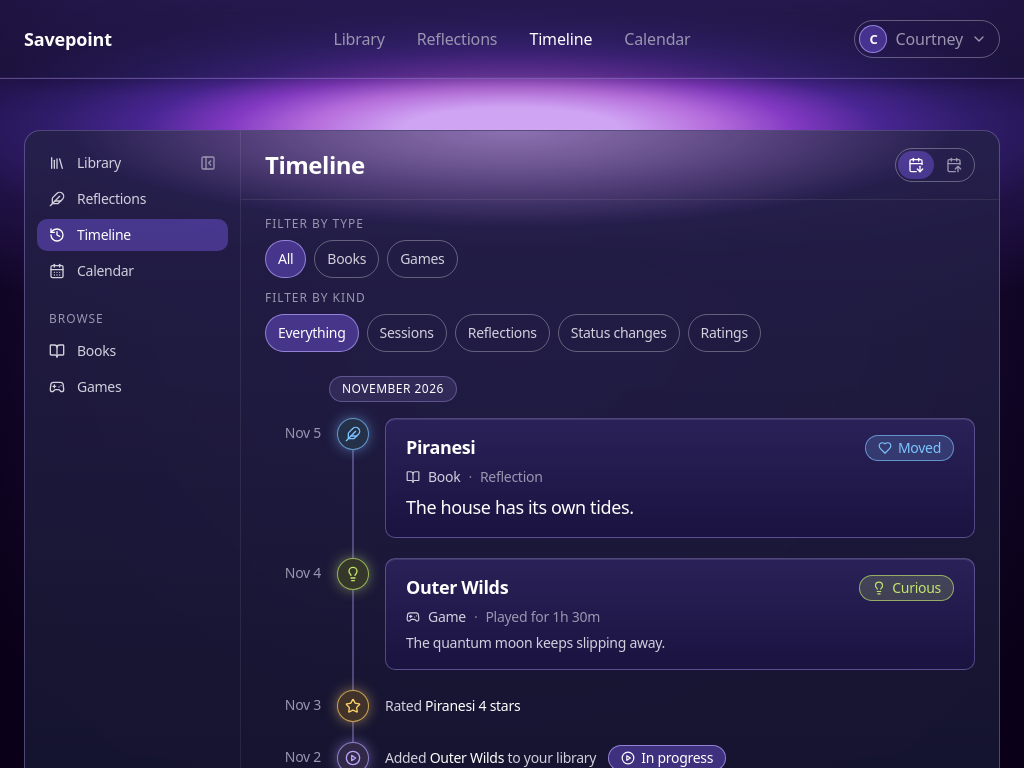
it: TimelinePage › filters › filters by type
Expected: the heading "November 2026" is shown, [329, 376, 457, 402]
Click the button "Books" at (347, 259), box [314, 240, 379, 278]
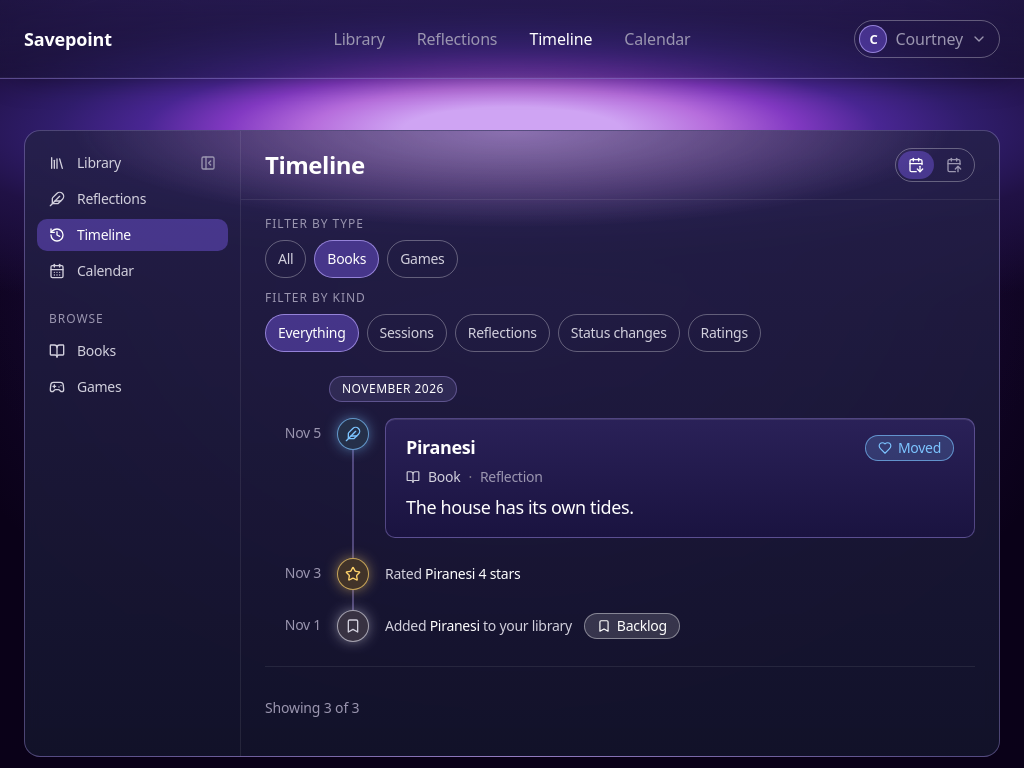
Expected: the list item that starts with "Nov 5" shows "Piranesi", [406, 435, 476, 459]
Expected: the message reads "Showing 3 of 3", [265, 697, 359, 718]
